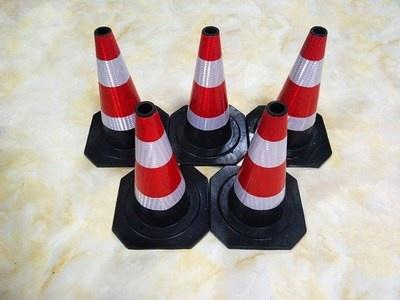cone_barrel: (82, 28, 153, 161), (225, 102, 296, 228), (124, 104, 194, 227), (268, 25, 333, 151), (178, 28, 238, 154)
